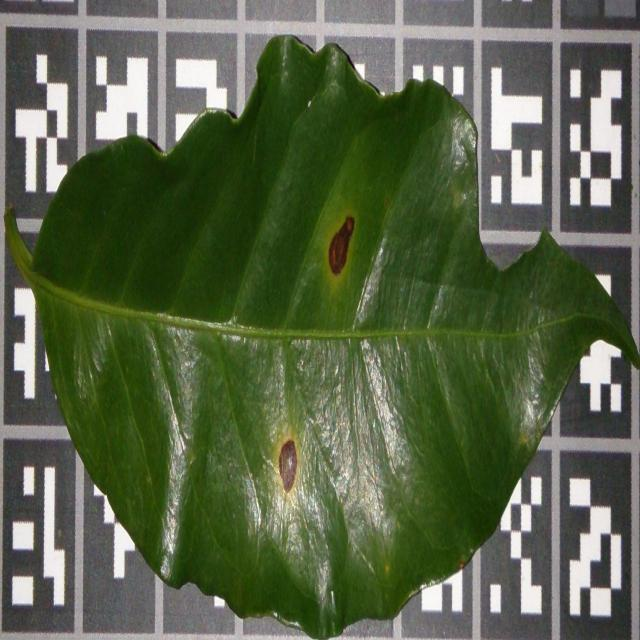Enfermedad-Mancha-de-hierro: (15, 36, 640, 631)
